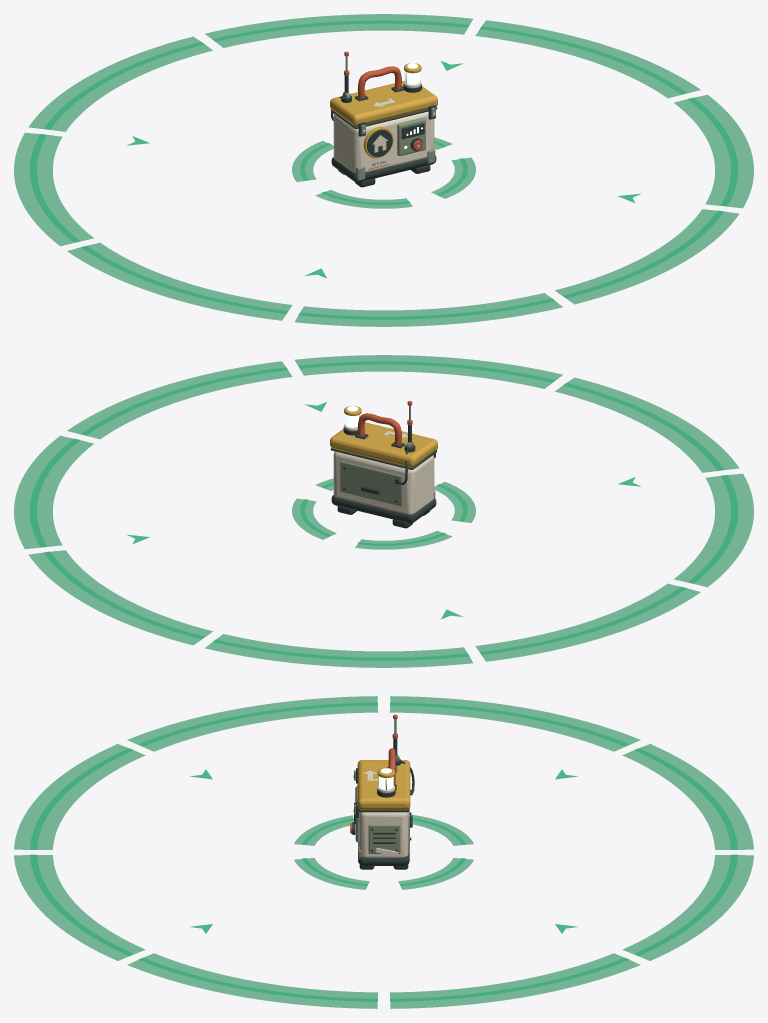
Rendered from Beacon.fbx.
3 renders of one model, top to bottom at view 1: azimuth 30°, elevation 25°; view 2: azimuth 150°, elevation 25°; view 3: azimuth 270°, elevation 25°, orthographic.
Visible parts, largest first — view 1: Range_Boundary_Glow, Range_Boundary_Soft, Range_Boundary_2m, PXB_Main_Case, PXB_Mustard_Lid, Beacon_Contact_Soft, PXB_Lower_Bumper, Beacon_Contact_Halo, PXB_Control_Bezel, PXB_Carry_Handle; view 2: Range_Boundary_Glow, Range_Boundary_Soft, Range_Boundary_2m, PXB_Main_Case, PXB_Mustard_Lid, Beacon_Contact_Soft, PXB_Back_Panel, PXB_Lower_Bumper, Beacon_Contact_Halo, PXB_Carry_Handle; view 3: Range_Boundary_Glow, Range_Boundary_Soft, Range_Boundary_2m, Beacon_Contact_Soft, PXB_Mustard_Lid, PXB_Main_Case, Beacon_Contact_Halo, PXB_Side_Service_Panel.
Boxes of the visible parts, left/top/right/bottom form: Range_Boundary_Glow: left=14, top=14, right=753, bottom=326; Range_Boundary_Soft: left=23, top=18, right=744, bottom=322; Range_Boundary_2m: left=30, top=20, right=737, bottom=319; PXB_Main_Case: left=333, top=111, right=434, bottom=172; PXB_Mustard_Lid: left=330, top=81, right=437, bottom=126; Beacon_Contact_Soft: left=292, top=137, right=475, bottom=208; PXB_Lower_Bumper: left=331, top=155, right=436, bottom=182; Beacon_Contact_Halo: left=300, top=141, right=467, bottom=204; PXB_Control_Bezel: left=397, top=118, right=425, bottom=155; PXB_Carry_Handle: left=357, top=66, right=401, bottom=97; Range_Boundary_Glow: left=14, top=355, right=753, bottom=667; Range_Boundary_Soft: left=23, top=359, right=744, bottom=663; Range_Boundary_2m: left=30, top=361, right=737, bottom=660; PXB_Main_Case: left=333, top=451, right=434, bottom=514; PXB_Mustard_Lid: left=330, top=422, right=437, bottom=467; Beacon_Contact_Soft: left=292, top=478, right=475, bottom=549; PXB_Back_Panel: left=340, top=461, right=402, bottom=506; PXB_Lower_Bumper: left=331, top=495, right=436, bottom=523; Beacon_Contact_Halo: left=300, top=482, right=467, bottom=545; PXB_Carry_Handle: left=357, top=413, right=401, bottom=445; Range_Boundary_Glow: left=14, top=696, right=753, bottom=1008; Range_Boundary_Soft: left=23, top=700, right=744, bottom=1004; Range_Boundary_2m: left=30, top=702, right=737, bottom=1001; Beacon_Contact_Soft: left=294, top=814, right=473, bottom=889; PXB_Mustard_Lid: left=357, top=760, right=410, bottom=809; PXB_Main_Case: left=359, top=812, right=408, bottom=857; Beacon_Contact_Halo: left=302, top=818, right=465, bottom=885; PXB_Side_Service_Panel: left=368, top=824, right=400, bottom=853.
Bounding box in the file's own units: 418 × 76.45 × 418.
